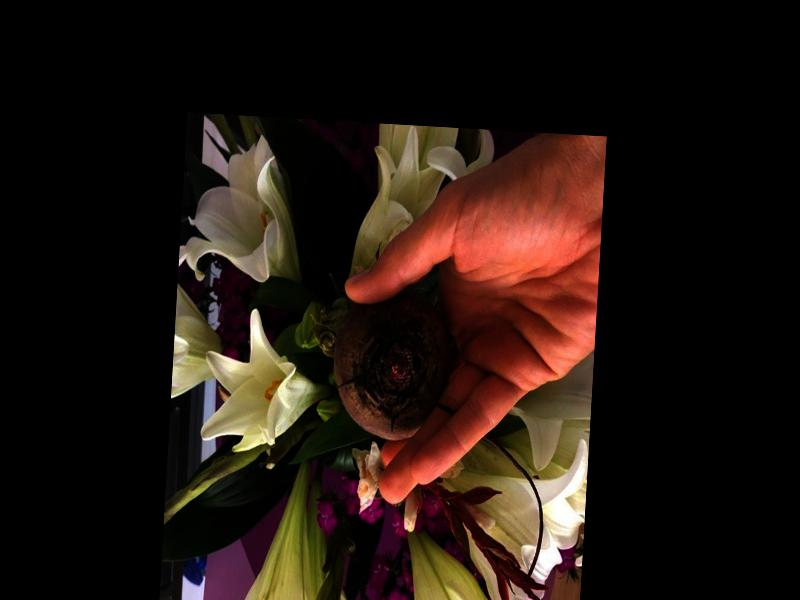Beet: (328, 288, 457, 445)
